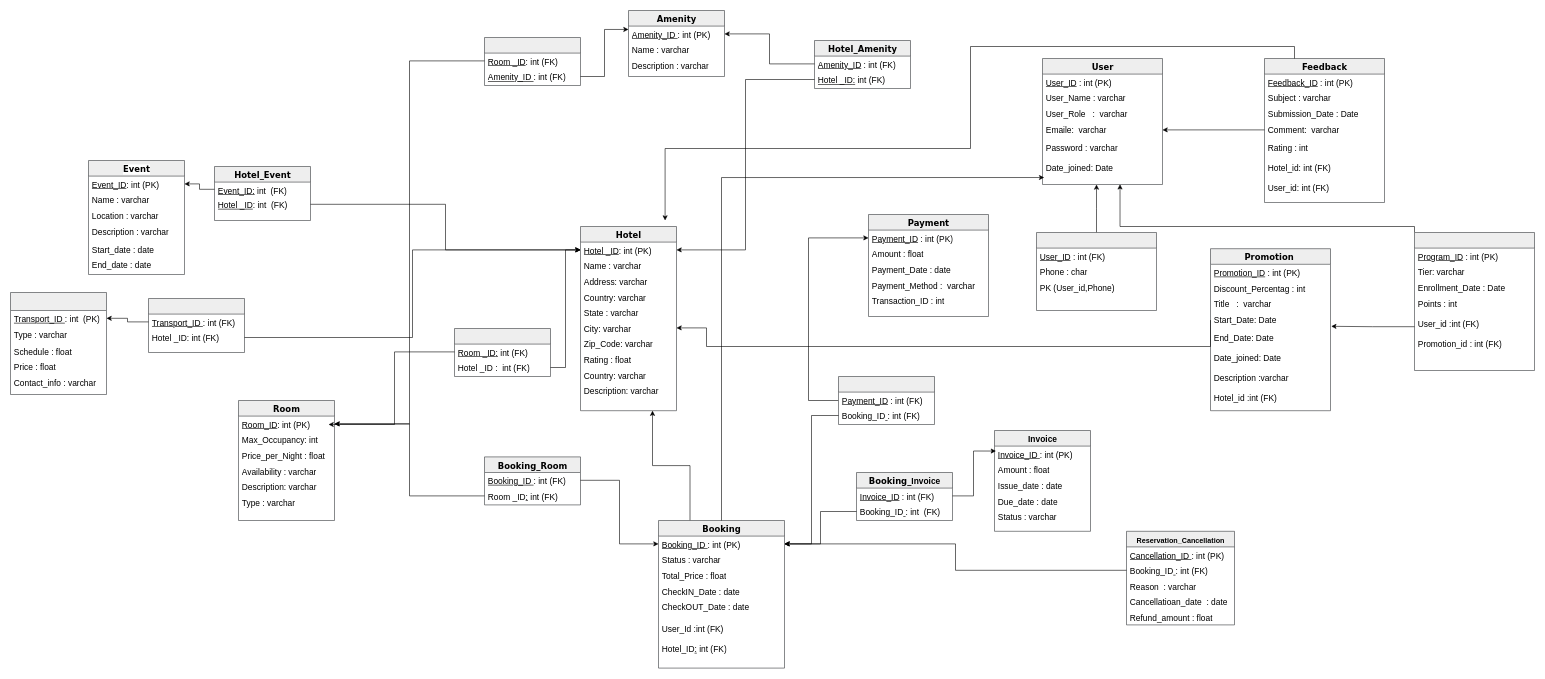
The diagram is 1545 pixels wide and 679 high, and some of its shapes have lost their labels. Here are the shapes that lost their labels. From the top down, the box of each, then its label:
(484, 37, 580, 86): Room_Amenity
(1036, 232, 1156, 310): User_Phone
(1414, 232, 1534, 370): Loyality_Program
(10, 292, 106, 394): Transportation
(148, 298, 244, 352): Hotel_ Transport
(454, 328, 550, 376): Hotel_Room
(838, 376, 934, 424): Booking_Payment
